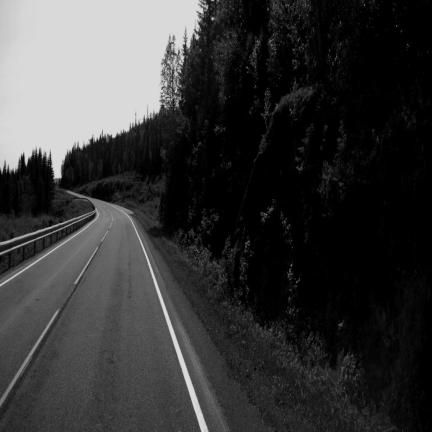Road: (0, 200, 229, 430)
